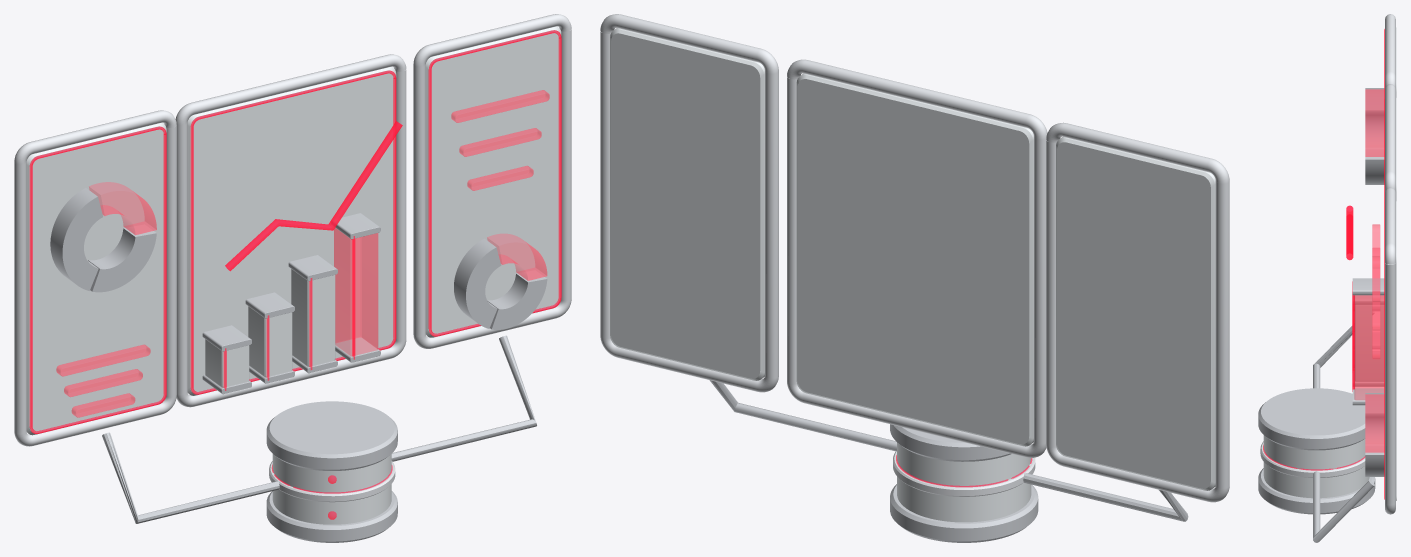
File: 50-data-analysis.glb
The picture shows the model from 3 angles, left to right: view 1: azimuth 30°, elevation 25°; view 2: azimuth 150°, elevation 25°; view 3: azimuth 270°, elevation 25°; orthographic projection. The views are drawn at different scales.
Visible parts, largest first — view 1: BC clear optical glass, BC polished silver metal, BC satin silver metal, BC ruby optical glass, BC neon red glass edge; view 2: BC clear optical glass, BC polished silver metal, BC satin silver metal; view 3: BC satin silver metal, BC polished silver metal, BC ruby optical glass, BC clear optical glass, BC neon red glass edge.
Boxes of the visible parts, bbox=[...] form: BC clear optical glass: bbox=[26, 26, 561, 524]; BC polished silver metal: bbox=[14, 14, 571, 502]; BC satin silver metal: bbox=[50, 188, 547, 542]; BC ruby optical glass: bbox=[56, 90, 549, 417]; BC neon red glass edge: bbox=[29, 30, 561, 519]; BC clear optical glass: bbox=[610, 28, 1215, 522]; BC polished silver metal: bbox=[600, 14, 1229, 502]; BC satin silver metal: bbox=[709, 380, 1188, 542]; BC satin silver metal: bbox=[1258, 88, 1384, 542]; BC polished silver metal: bbox=[1260, 14, 1395, 514]; BC ruby optical glass: bbox=[1354, 89, 1384, 452]; BC clear optical glass: bbox=[1263, 27, 1396, 500]; BC neon red glass edge: bbox=[1263, 29, 1384, 499].
Bounding box in the file's own units: 2.59 × 1.81 × 0.6275.
